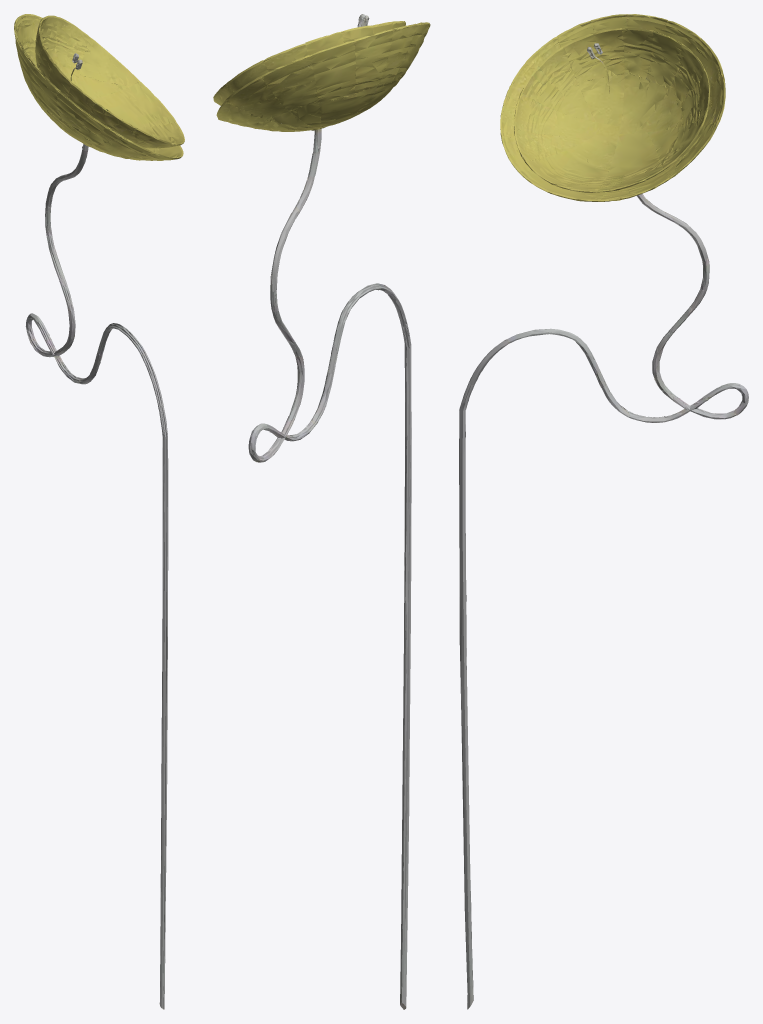
The model's file is 11_3_hamu_cnk_olive-opt-v58.glb.
3 renders of one model, left to right at view 1: azimuth 30°, elevation 25°; view 2: azimuth 150°, elevation 25°; view 3: azimuth 270°, elevation 25°, orthographic. The views are drawn at different scales.
Visible parts, largest first — view 1: tripo_node_4553077a-848c-482e-b168-39e551794a28; view 2: tripo_node_4553077a-848c-482e-b168-39e551794a28; view 3: tripo_node_4553077a-848c-482e-b168-39e551794a28.
Part boxes in pixels (left/top/right/bottom): tripo_node_4553077a-848c-482e-b168-39e551794a28: left=14, top=14, right=184, bottom=1009; tripo_node_4553077a-848c-482e-b168-39e551794a28: left=213, top=14, right=430, bottom=1009; tripo_node_4553077a-848c-482e-b168-39e551794a28: left=459, top=14, right=748, bottom=1009.
Size of the model in its own units: 0.0709 by 0.4252 by 0.116.
Materials: 1 (1 with a texture image).
